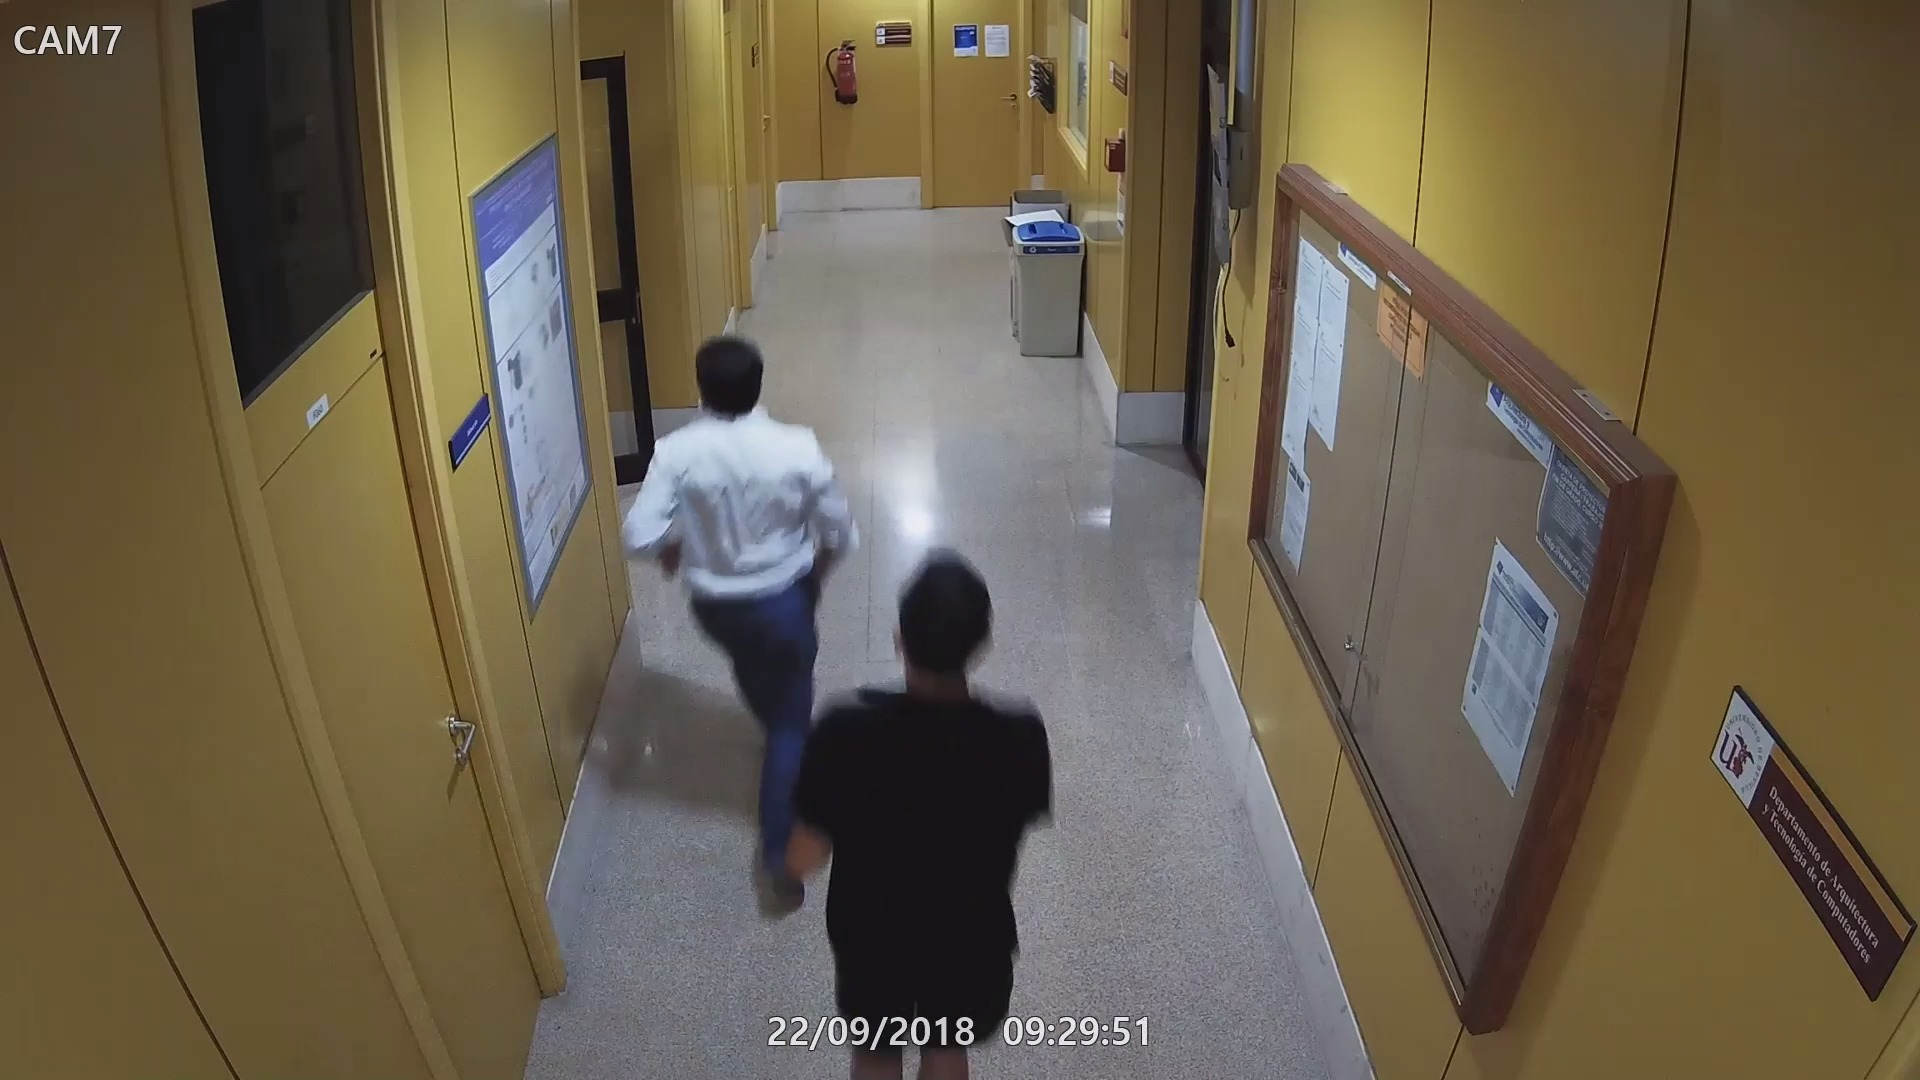Handgun: (844, 673, 911, 708)
